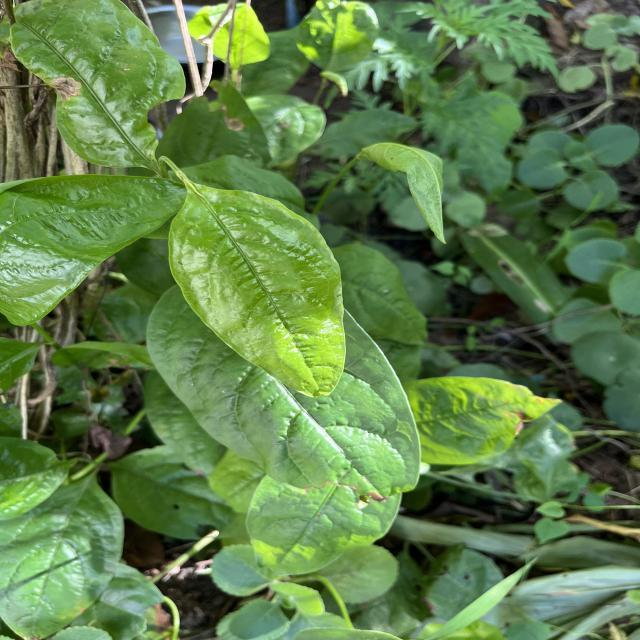Plumbago indica: (166, 180, 351, 402), (2, 0, 188, 173), (3, 166, 179, 326), (0, 473, 125, 640), (404, 374, 566, 468)
